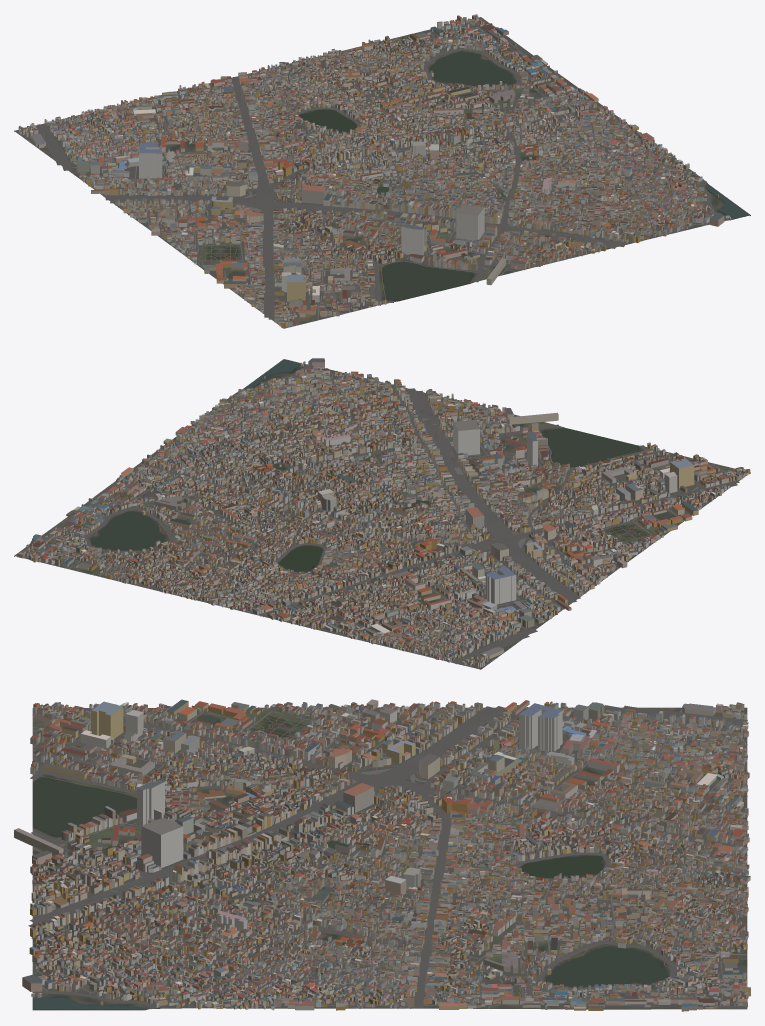
3 views of the same model, one above another, from view 1: azimuth 30°, elevation 25°; view 2: azimuth 150°, elevation 25°; view 3: azimuth 270°, elevation 25° (orthographic). The views are drawn at different scales.
Parts seen in each view (by area): view 1: buildings, ground, roads, water; view 2: buildings, ground, roads, water; view 3: buildings, ground, roads, water.
Boxes of the visible parts, x1,y1,x2,y2 form: buildings: [18, 14, 731, 328]; ground: [14, 17, 750, 328]; roads: [20, 17, 726, 326]; water: [228, 51, 749, 300]; buildings: [17, 358, 750, 667]; ground: [14, 359, 750, 669]; roads: [15, 364, 743, 666]; water: [90, 359, 674, 572]; buildings: [14, 699, 750, 1011]; ground: [32, 707, 747, 1010]; roads: [28, 705, 748, 1009]; water: [33, 714, 667, 1009].
Size of the model in its own units: 1430 by 80.81 by 1446.
